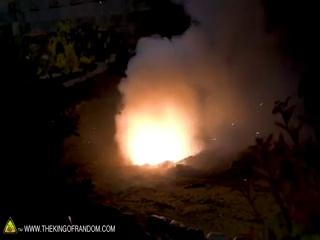Fire: (111, 85, 193, 166)
